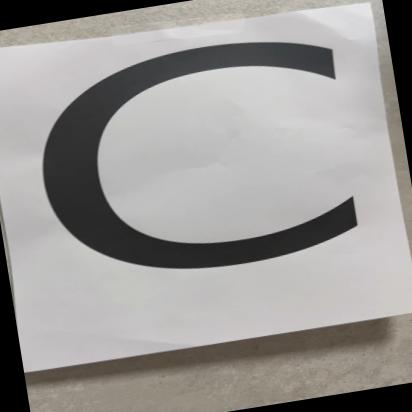seat: (0, 0, 409, 382)
